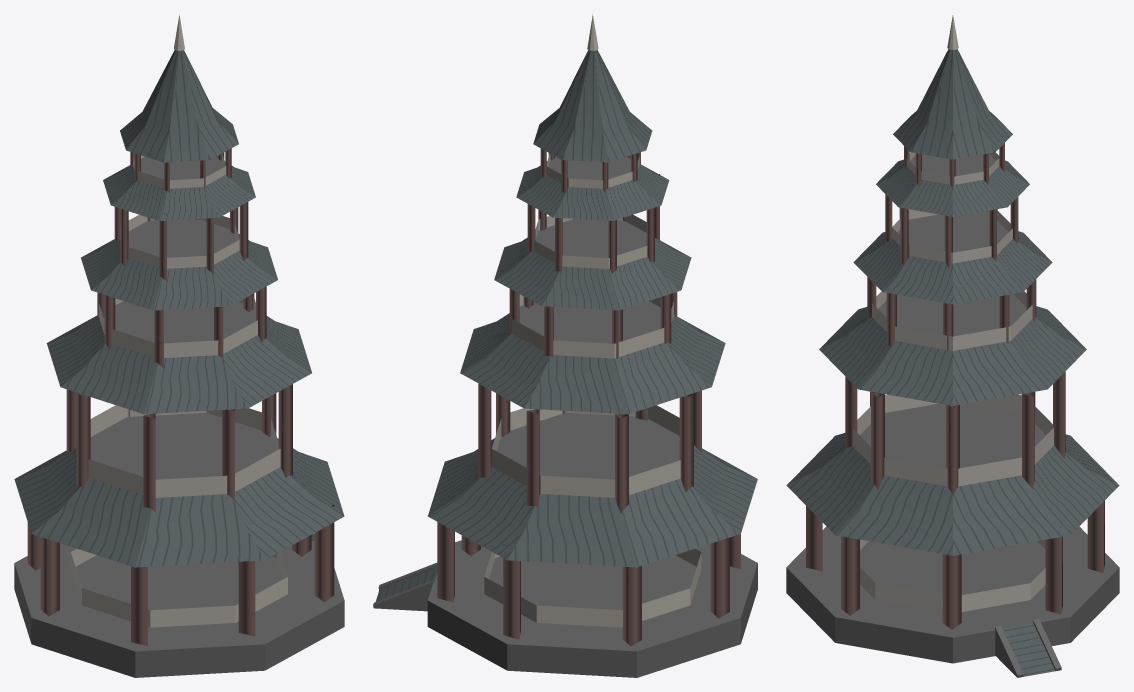
The model's file is TS_Building_02.FBX.
3 views of the same model, side by side, from view 1: azimuth 30°, elevation 25°; view 2: azimuth 150°, elevation 25°; view 3: azimuth 270°, elevation 25° (orthographic). The views are drawn at different scales.
Visible parts, largest first — view 1: TS_Building_02; view 2: TS_Building_02; view 3: TS_Building_02.
Boxes of the visible parts, box(x1,y1,x2,y2) form: TS_Building_02: box(14, 14, 344, 677); TS_Building_02: box(373, 14, 757, 677); TS_Building_02: box(786, 15, 1119, 677).
Bounding box in the file's own units: 5.36 × 9.28 × 4.84.
